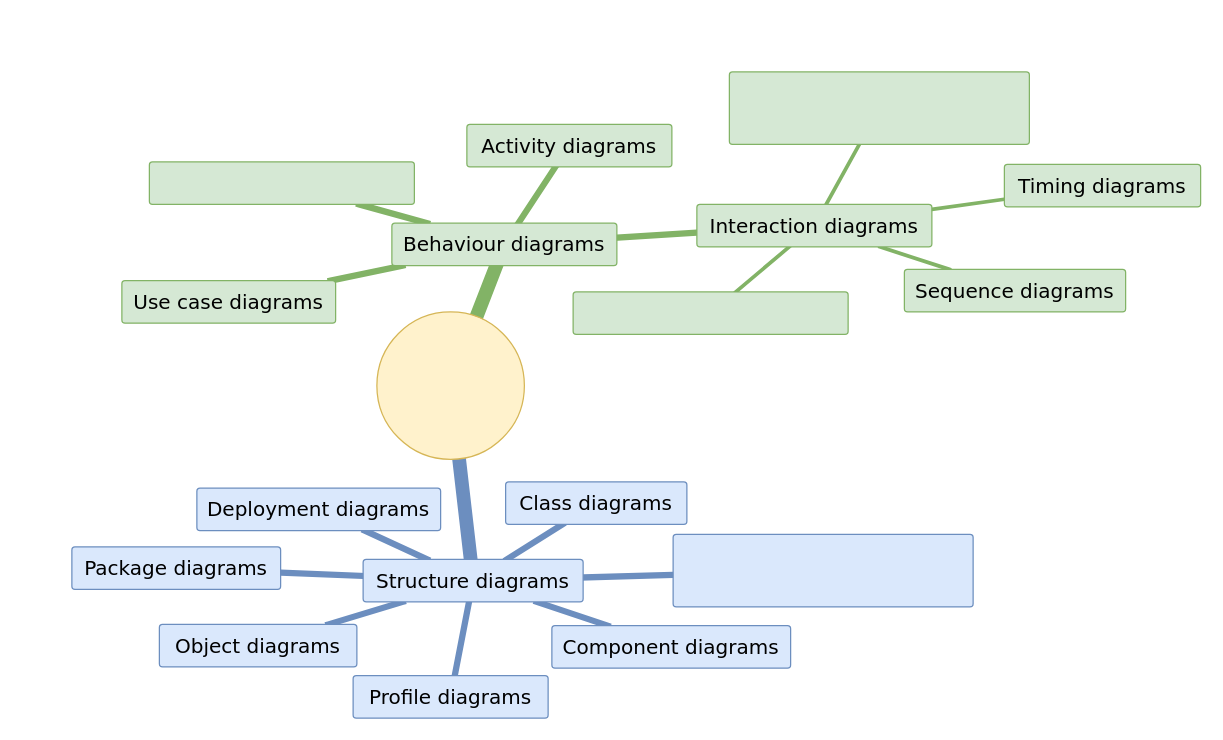
Image size: 1223x740. Some labels were removed from this diagram. Here are the shapes that lost their labels. From the top down, the centre of each, then its label:
[878,107]: Interaction overview diagrams
[281,182]: State machine diagrams
[710,312]: Communication diagrams
[450,385]: UML diagrams
[822,570]: Composite structure diagrams
